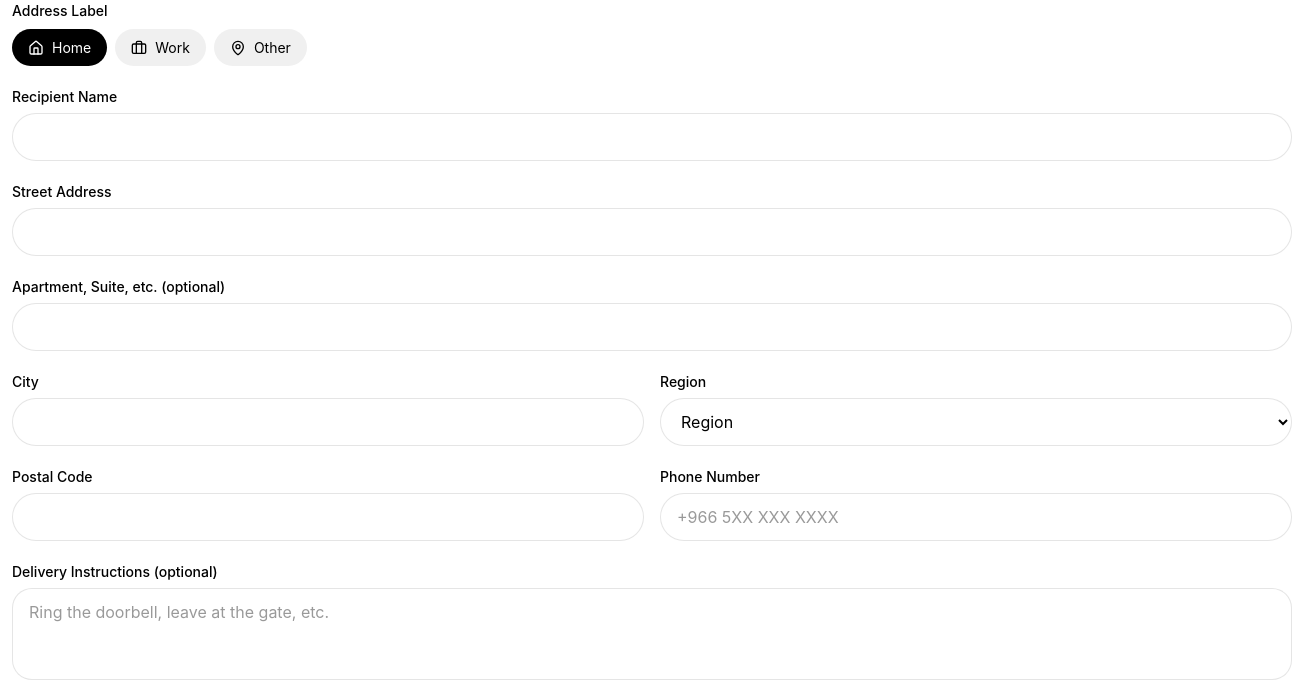
Test: AddressForm › validates postal code format (5 digits)
Type "John Doe" into the field below "Recipient Name" at (652, 137), box [12,113,1292,161]
Type "456 King Road Suite 100" into the field below "Street Address" at (652, 232), box [12,208,1292,256]
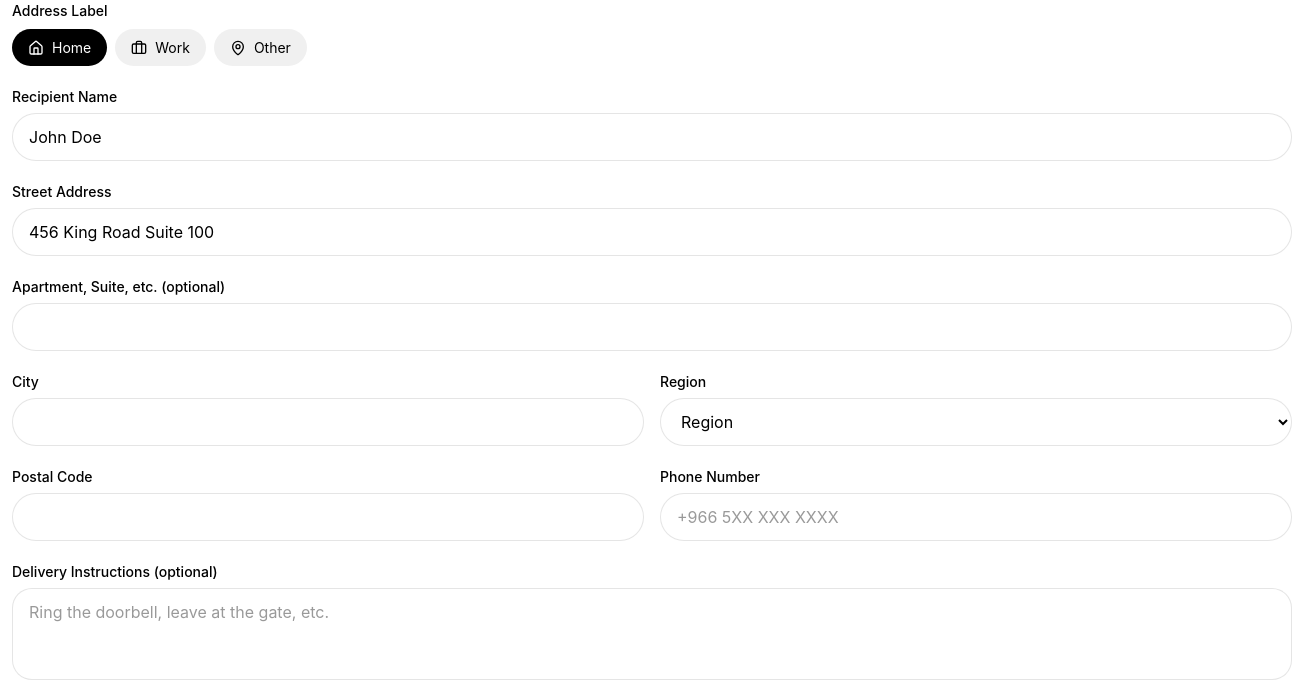
Type "Jeddah" into the field below "City" at (328, 422), box [12,398,644,446]
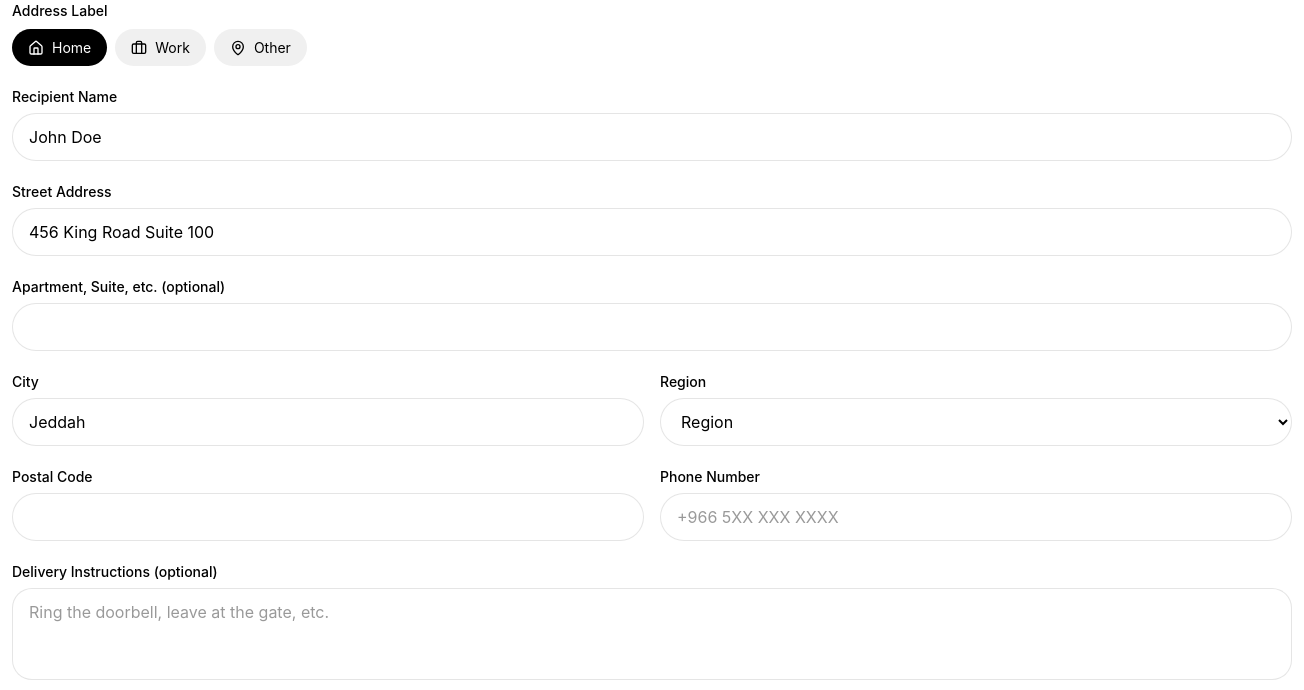
Select "Makkah" in the dropdown at (976, 422), box [660,398,1292,446]
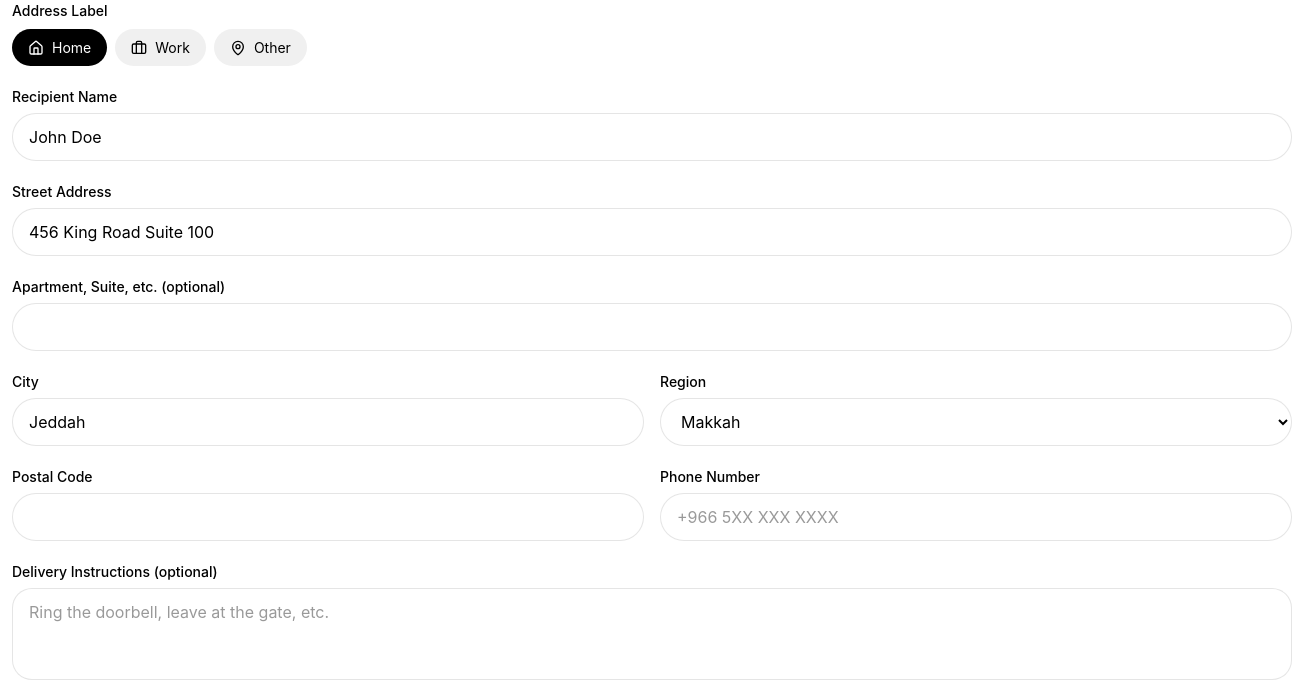
Type "123" into the field below "Postal Code" at (328, 517), box [12,493,644,541]
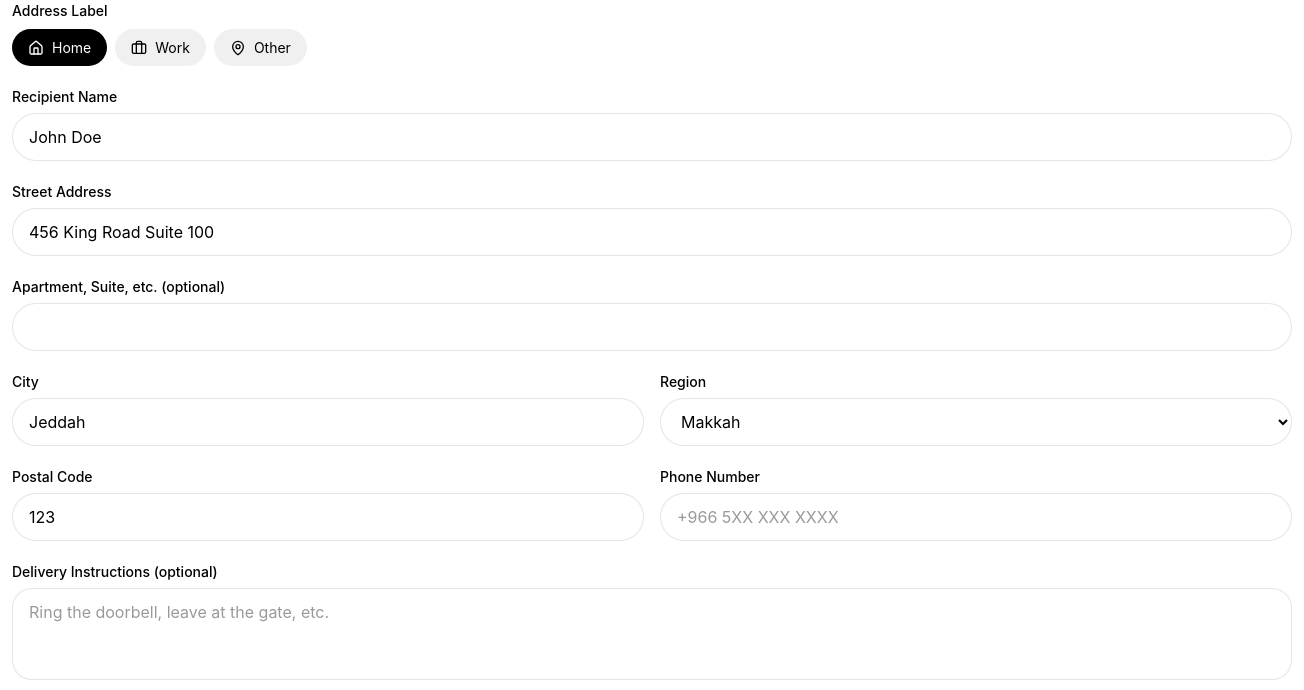
Type "+966512345678" into the field with placeholder "+966 5XX XXX XXXX" at (976, 517), box [660,493,1292,541]
(page scrolled)
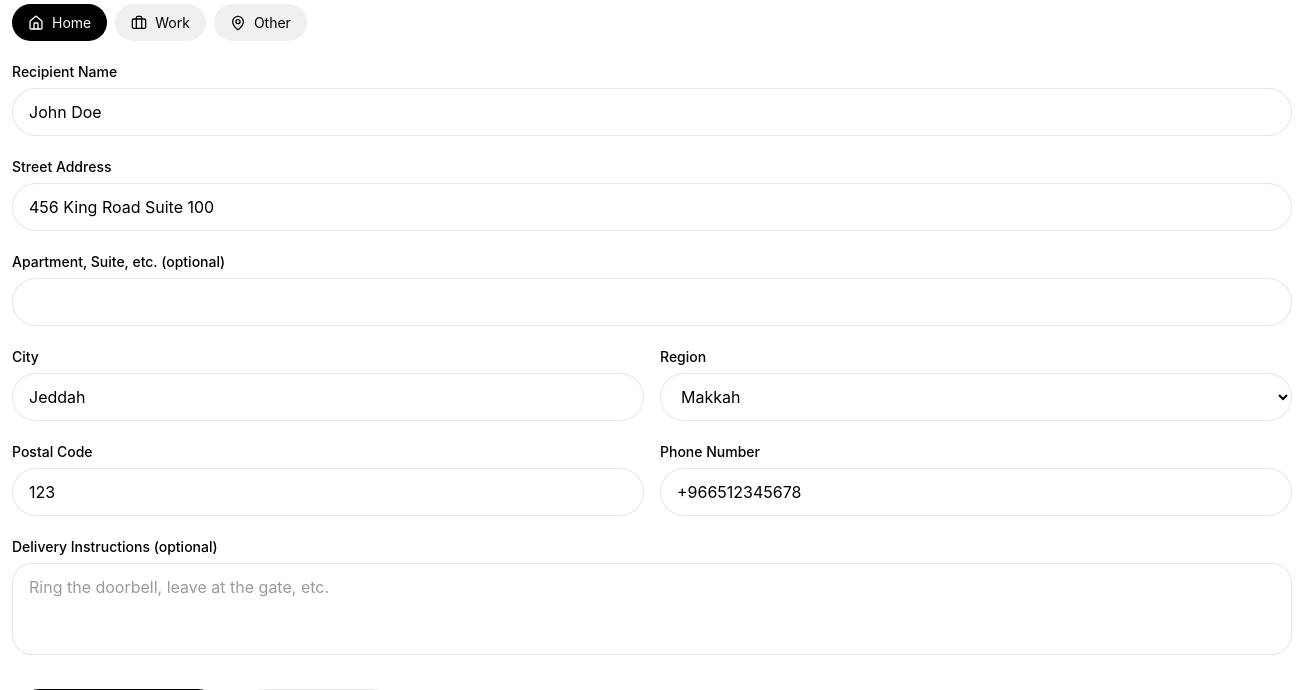
Submit the text "Save Address"
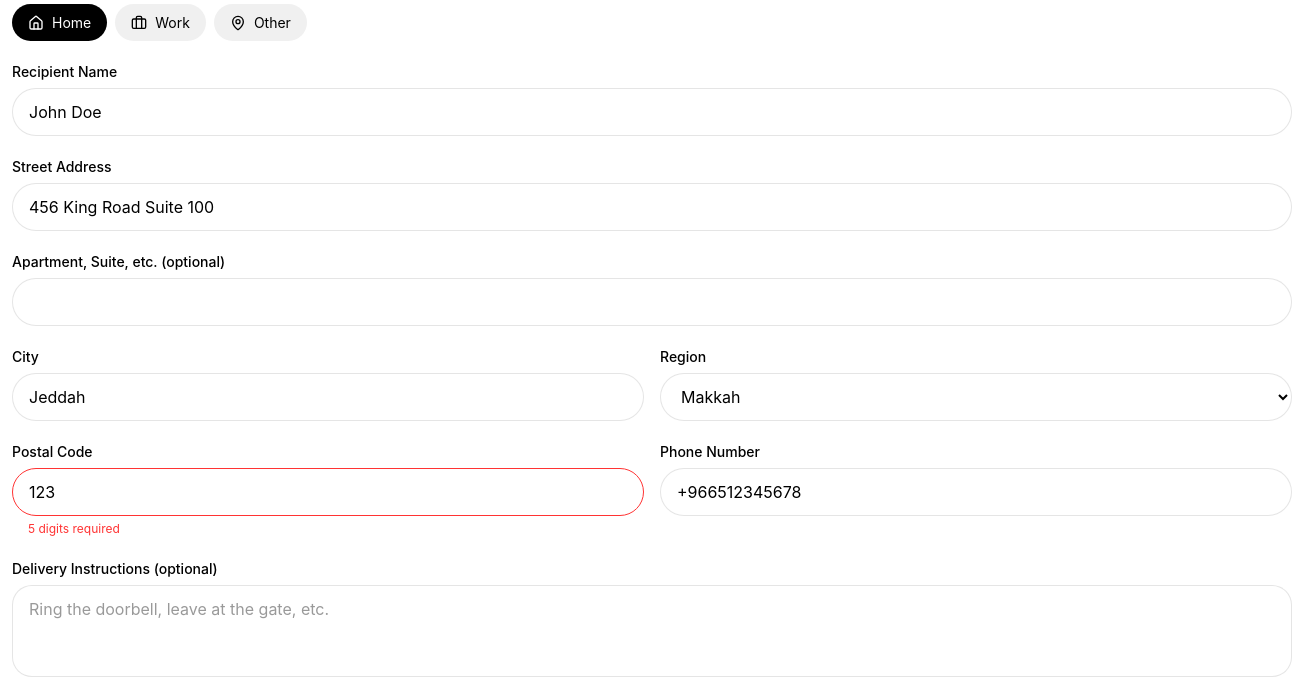
Now the text "5 digits required" is shown, box [28,521,120,536]
